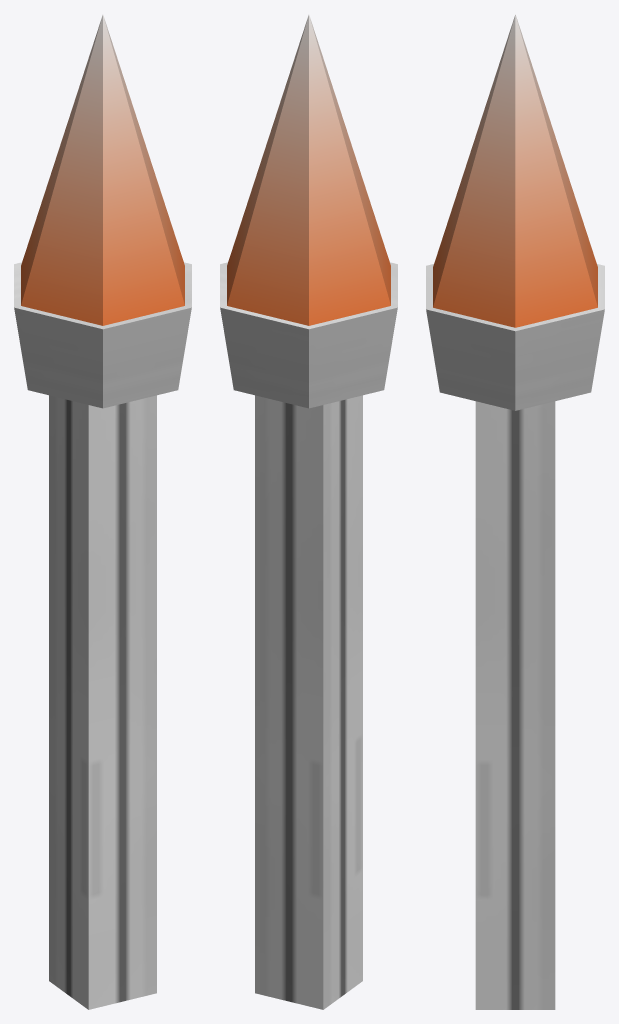
Rendered from torch_lamp.obj.
3 views of the same model, side by side, from view 1: azimuth 30°, elevation 25°; view 2: azimuth 150°, elevation 25°; view 3: azimuth 270°, elevation 25° (orthographic).
Parts seen in each view (by area): view 1: torch_lamp; view 2: torch_lamp; view 3: torch_lamp.
Boxes of the visible parts, left/top/right/bottom form: torch_lamp: left=14, top=15, right=191, bottom=1009; torch_lamp: left=220, top=15, right=397, bottom=1009; torch_lamp: left=426, top=14, right=604, bottom=1009.
Bounding box in the file's own units: 0.26 × 1.36 × 0.2252.
